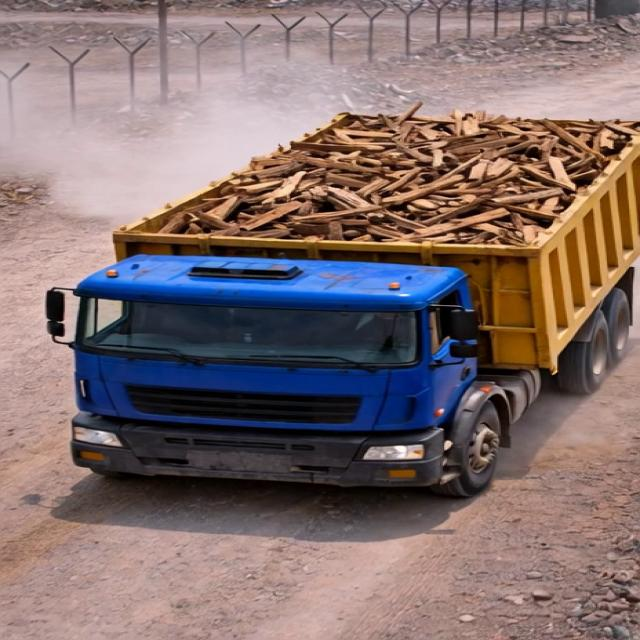trailer: (96, 106, 638, 252)
truck: (17, 90, 635, 493)
